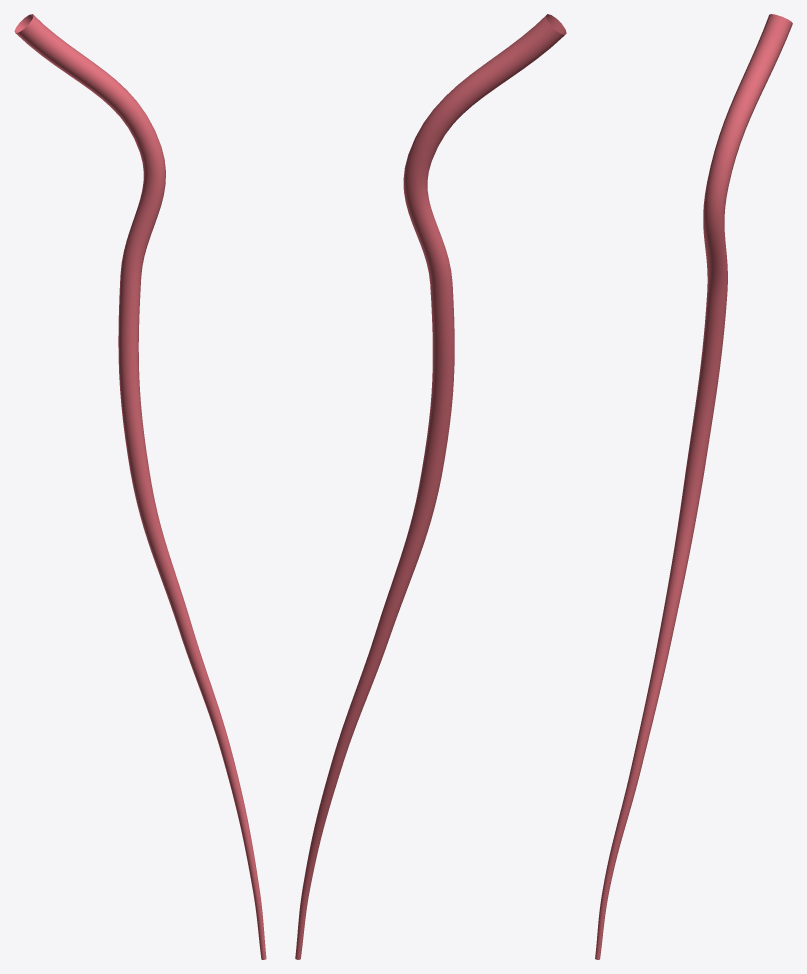
3 renders of one model, left to right at view 1: azimuth 30°, elevation 25°; view 2: azimuth 210°, elevation 25°; view 3: azimuth 270°, elevation 25°, orthographic. The views are drawn at different scales.
Visible parts, largest first — view 1: ZA_51247c3585518a38; view 2: ZA_51247c3585518a38; view 3: ZA_51247c3585518a38.
Part boxes in pixels (x1,y1,x2,y2): ZA_51247c3585518a38: (14, 14, 266, 959); ZA_51247c3585518a38: (295, 14, 566, 959); ZA_51247c3585518a38: (595, 14, 792, 959).
Bounding box in the file's own units: 0.0207 × 0.1149 × 0.0234.
